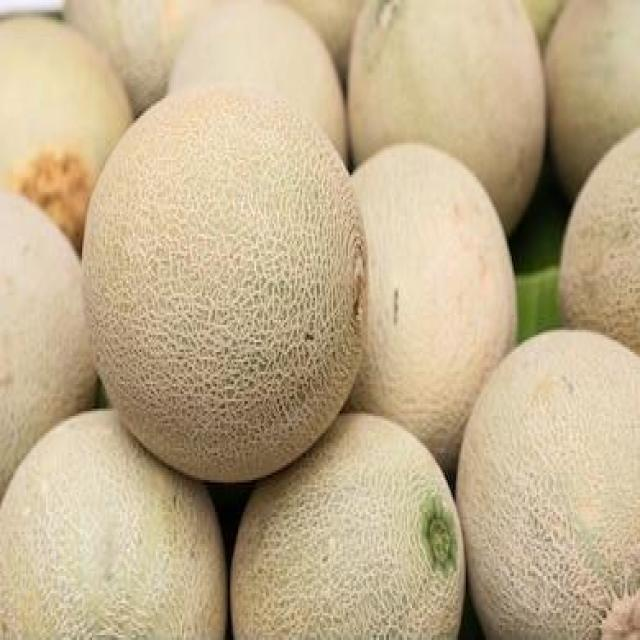cantaloupe: (80, 86, 368, 485)
